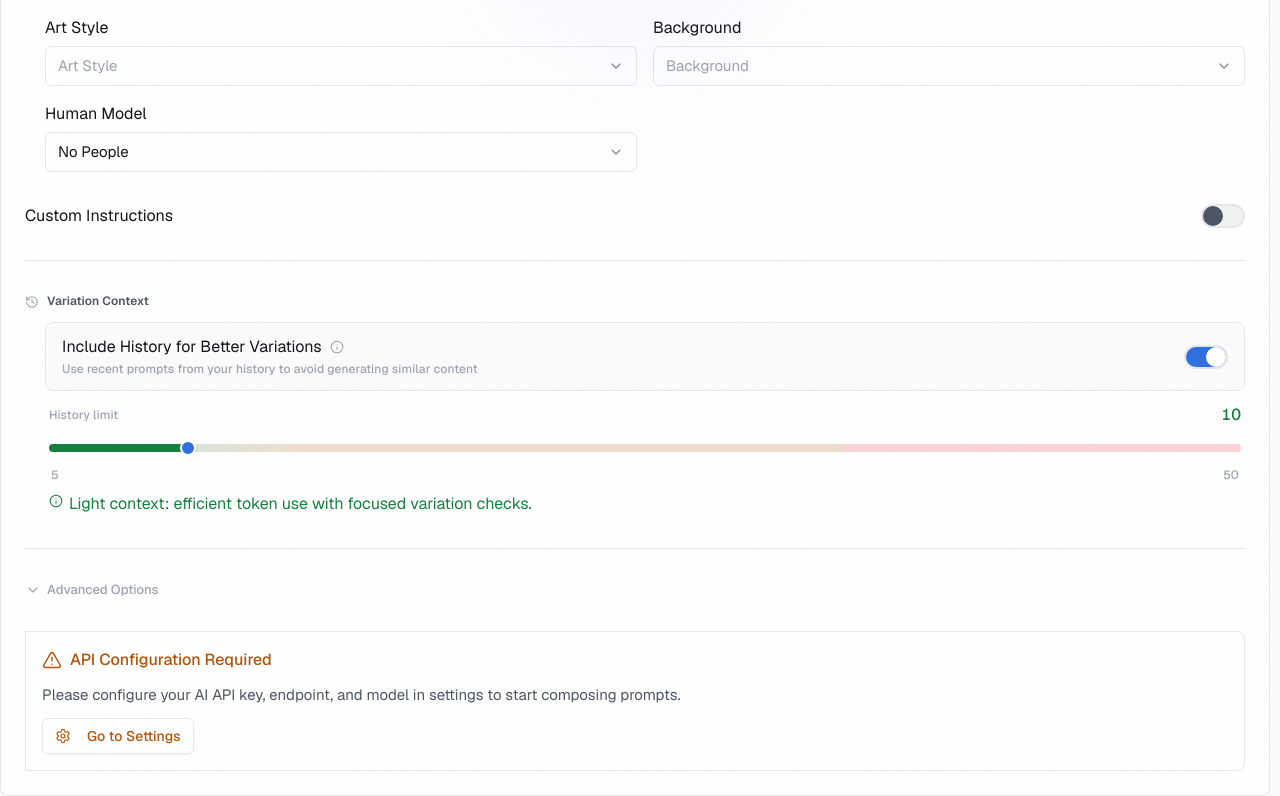
Test: GeneratorForm UX & Controls › Variation Context history status text tiers › updates status text dynamically when slider value changes
The image size is (1280, 796).
(page scrolled)
Expected: the text "Light context: efficient token use with focused variation checks." is shown, [49,493,532,514]
Set the slider named "History limit" to "30" at [710, 448], box [49,444,1241,452]
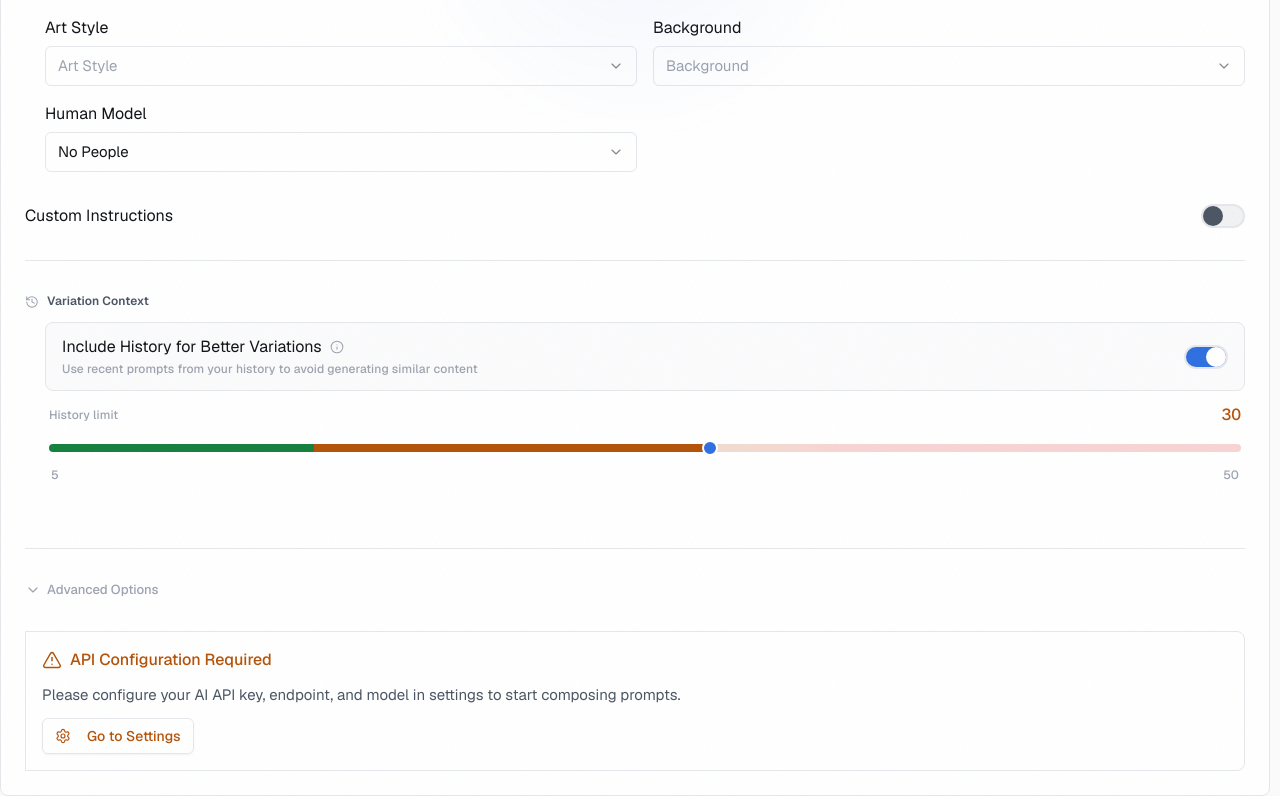
Set the slider named "History limit" to "45" at [1102, 448], box [49,444,1241,452]
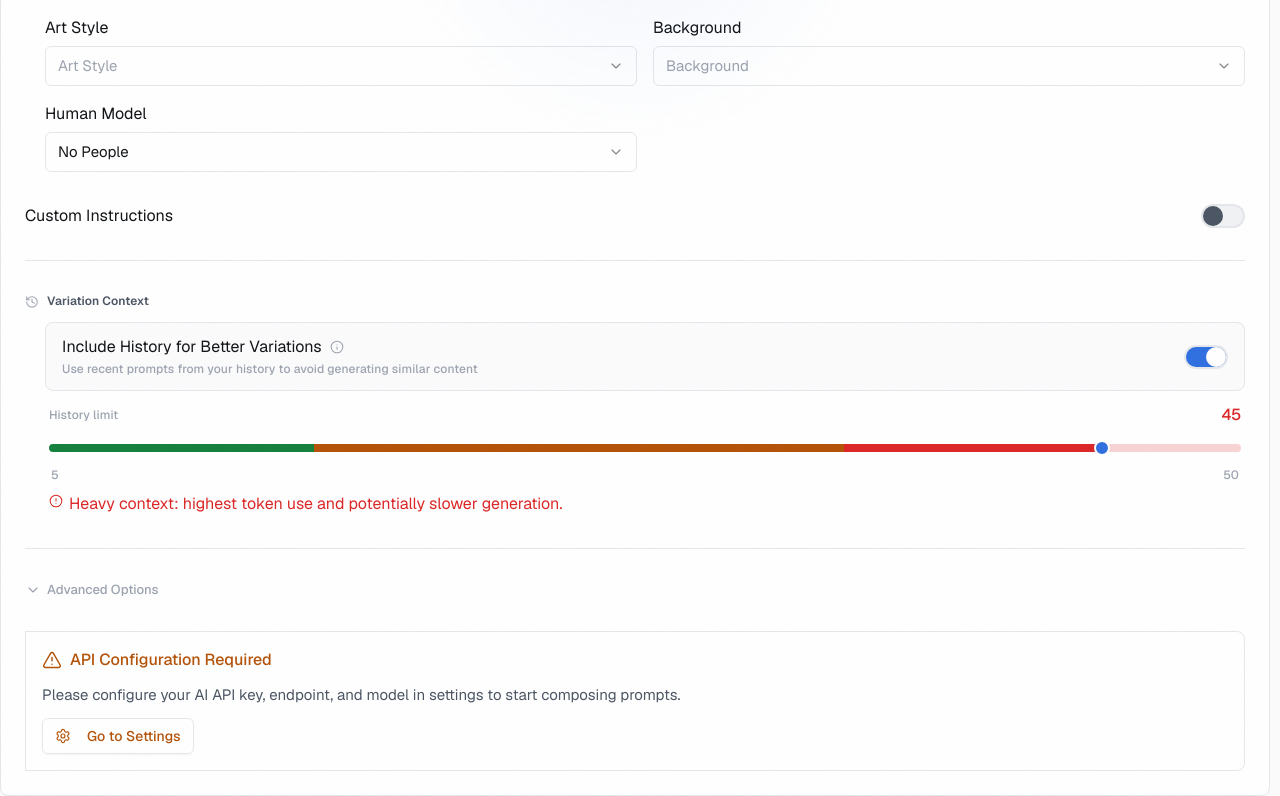
Result: the text "Heavy context: highest token use and potentially slower generation." is shown at [49,493,562,514]
